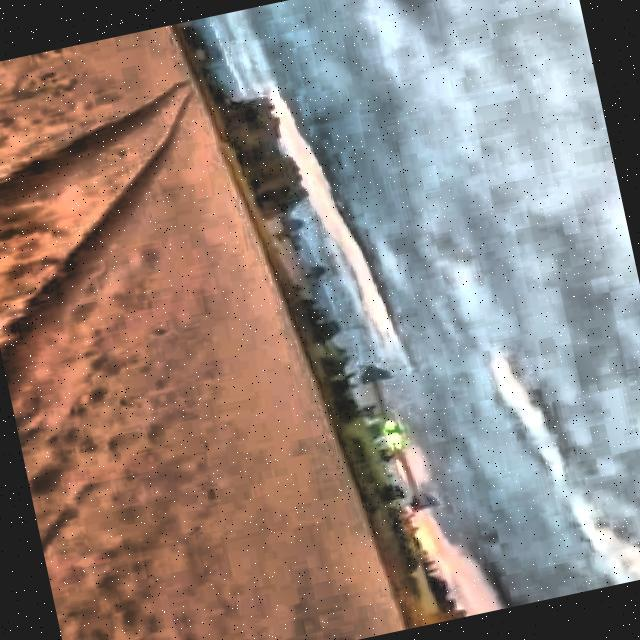iha: (373, 347, 407, 524)
